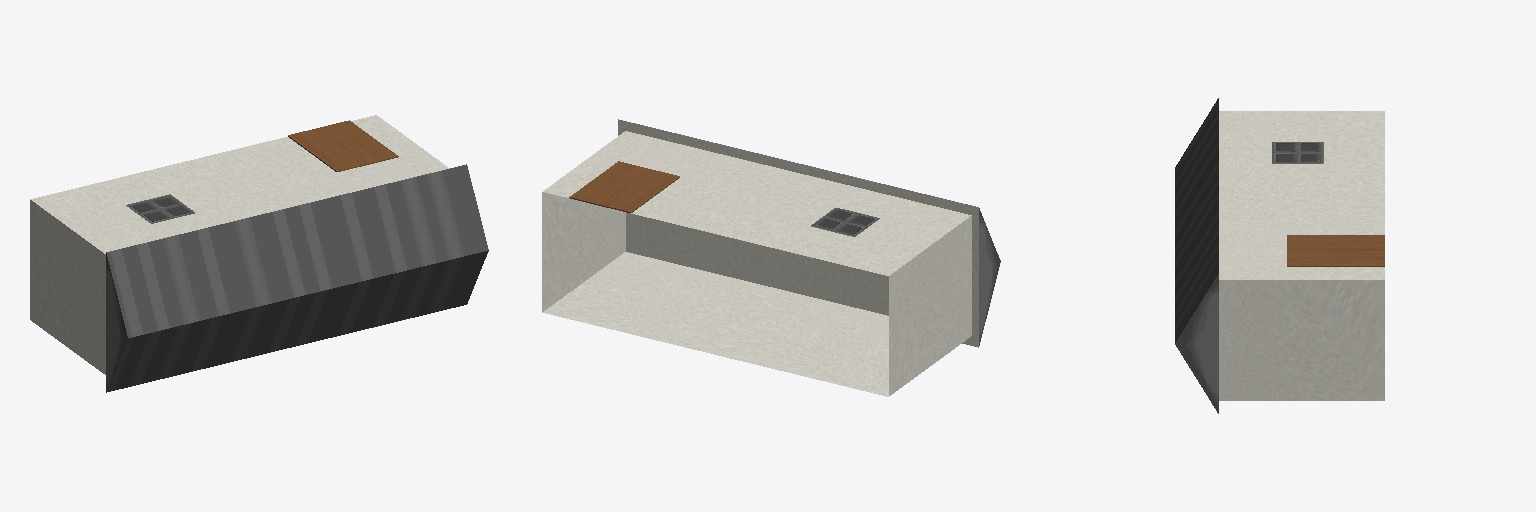
3 views of the same model, side by side, from view 1: azimuth 30°, elevation 25°; view 2: azimuth 150°, elevation 25°; view 3: azimuth 270°, elevation 25° (orthographic).
Parts seen in each view (by area): view 1: Plane, Door, Window; view 2: Plane, Door, Window; view 3: Plane, Door, Window.
Part boxes in pixels (bbox=[...]): Plane: bbox=[30, 115, 488, 392]; Door: bbox=[288, 120, 398, 171]; Window: bbox=[126, 194, 194, 223]; Plane: bbox=[542, 119, 1000, 396]; Door: bbox=[569, 161, 679, 212]; Window: bbox=[811, 208, 879, 236]; Plane: bbox=[1175, 98, 1384, 413]; Door: bbox=[1287, 235, 1384, 266]; Window: bbox=[1272, 142, 1323, 163].
Size of the model in its own units: 6.25 by 2.32 by 3.16.
3 materials, 3 textured.